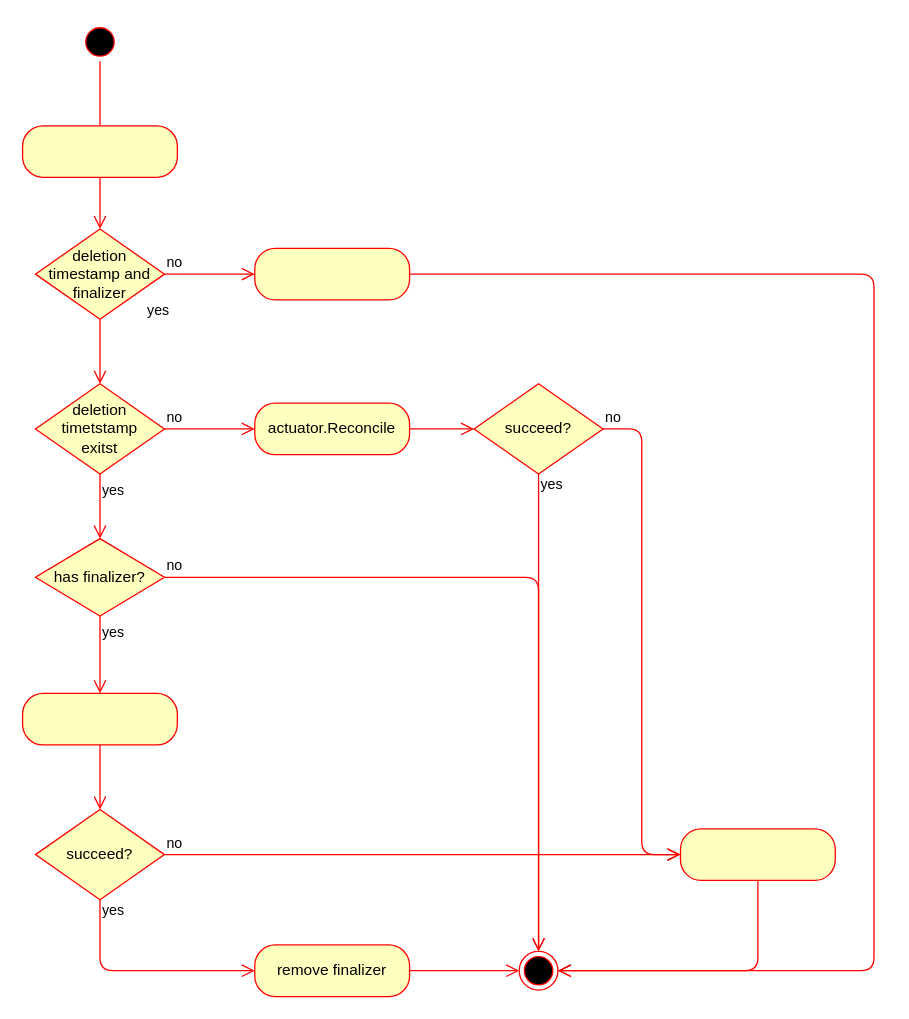
This 909x1019 diagram has some shape labels left out. The centre of each missing label's shape, as x and y in pixels:
actuator.Delete: point (99, 718)
add finalizer: point (331, 273)
Get cluster object: point (99, 150)
requeue: point (757, 854)
